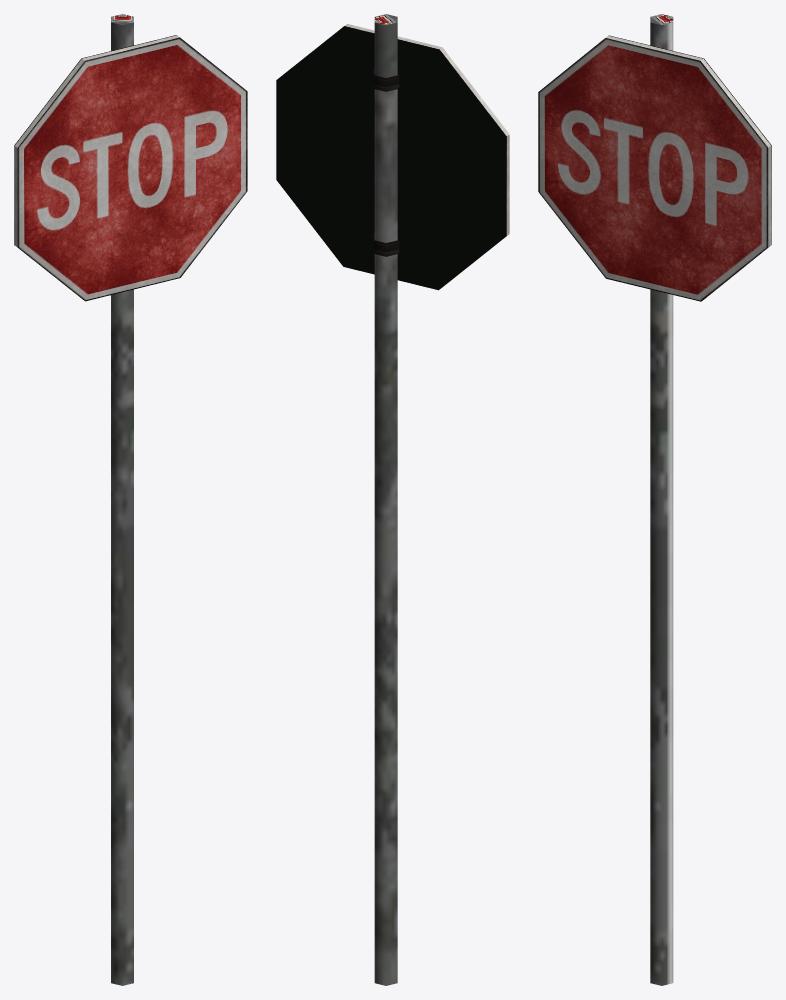
Rendered from UDC_StopSign.obj.
The picture shows the model from 3 angles, left to right: view 1: azimuth 30°, elevation 25°; view 2: azimuth 150°, elevation 25°; view 3: azimuth 330°, elevation 25°; orthographic projection.
Visible parts, largest first — view 1: UDC_StopSign; view 2: UDC_StopSign; view 3: UDC_StopSign.
Boxes of the visible parts, x1,y1,x2,y2 form: UDC_StopSign: (14, 14, 247, 985); UDC_StopSign: (276, 14, 509, 985); UDC_StopSign: (538, 14, 771, 985).
Bounding box in the file's own units: 0.2365 × 0.9433 × 0.0281.
1 material, 1 textured.
